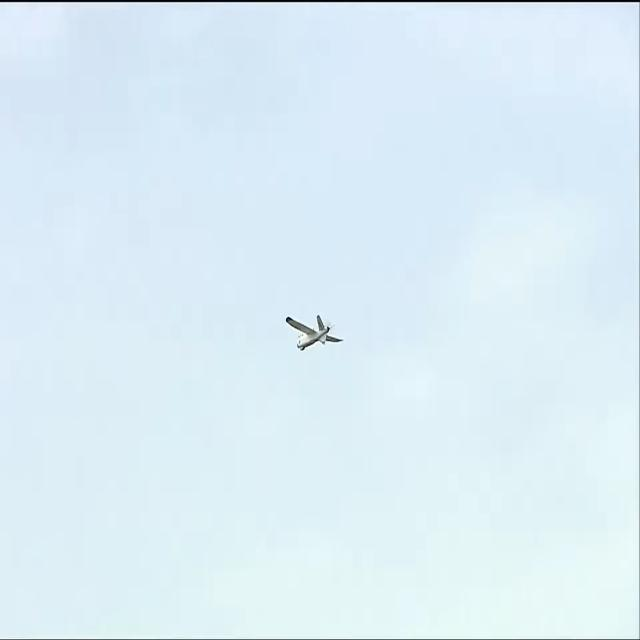iha: (284, 303, 344, 348)
